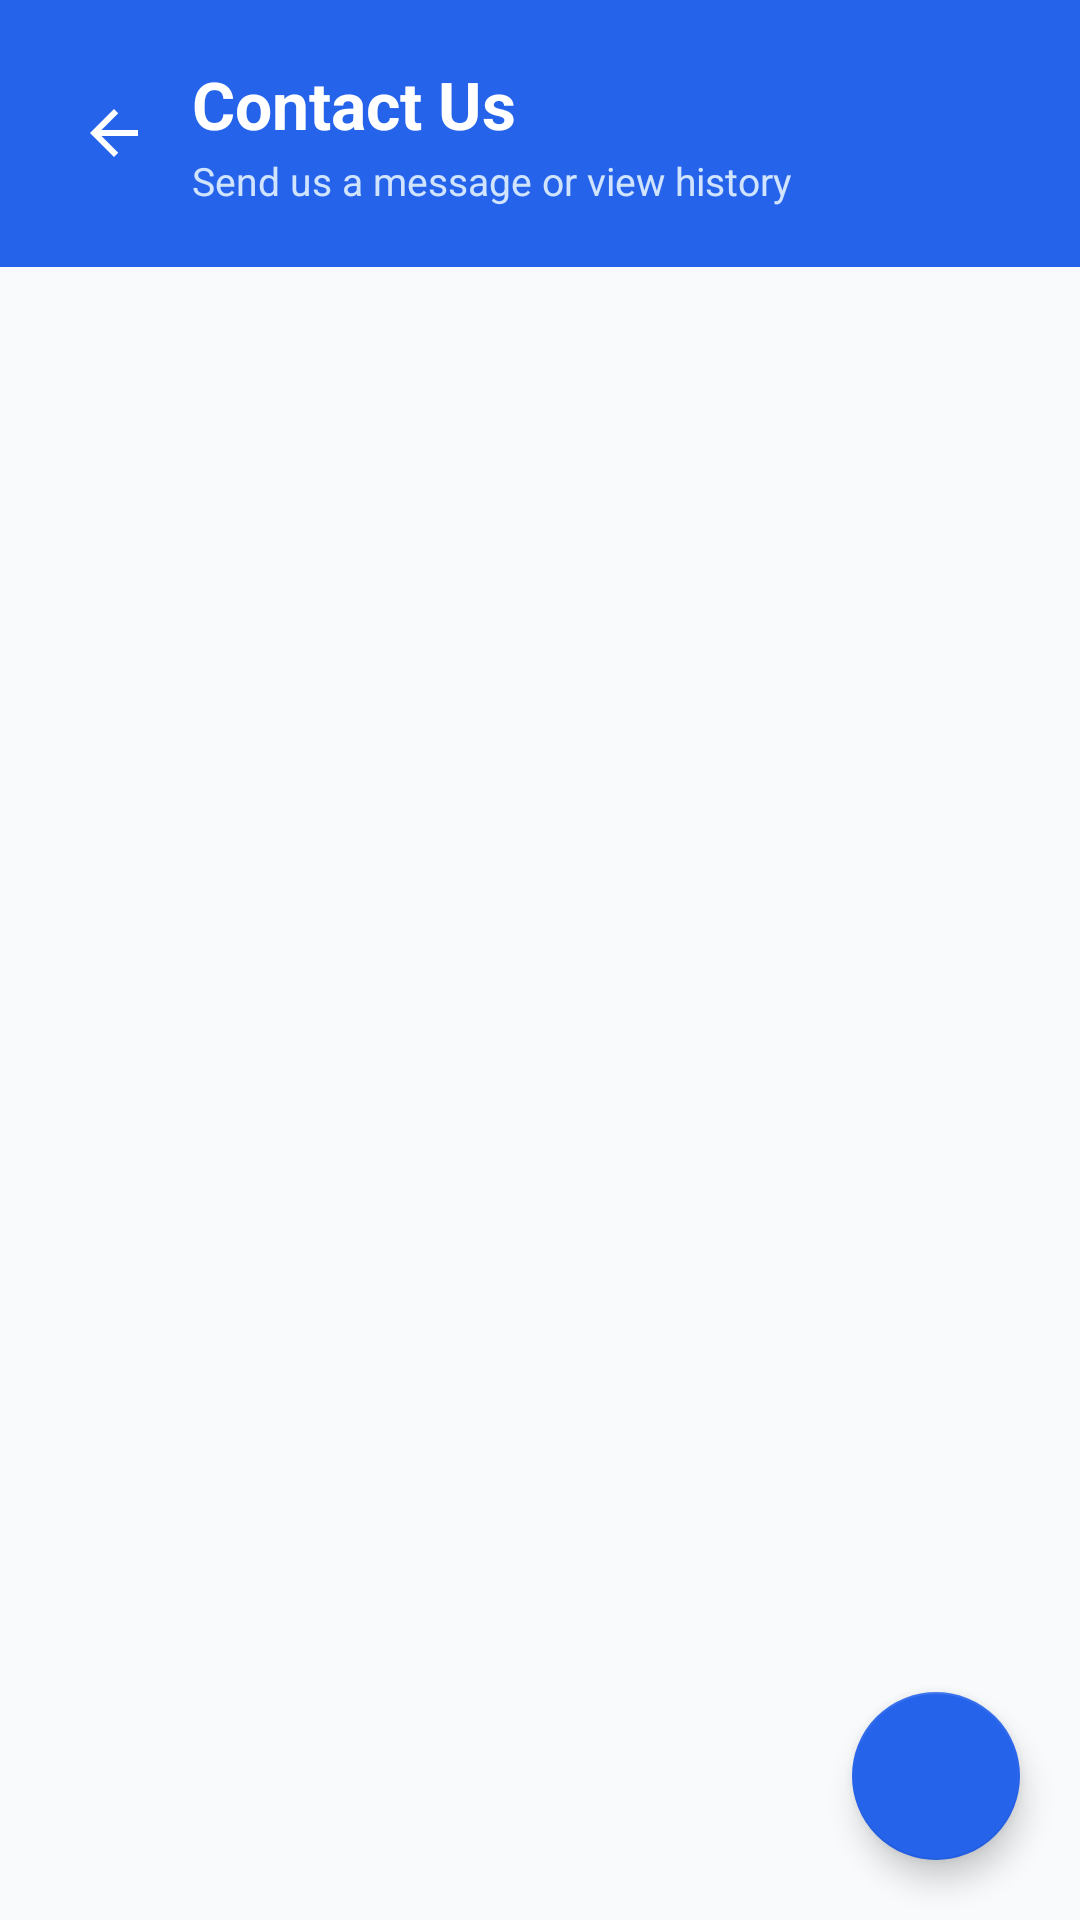

Where to tap for icons on this 1080*1920 app screen, as (x=x, y=y):
Back to Home: (x=114, y=133)
